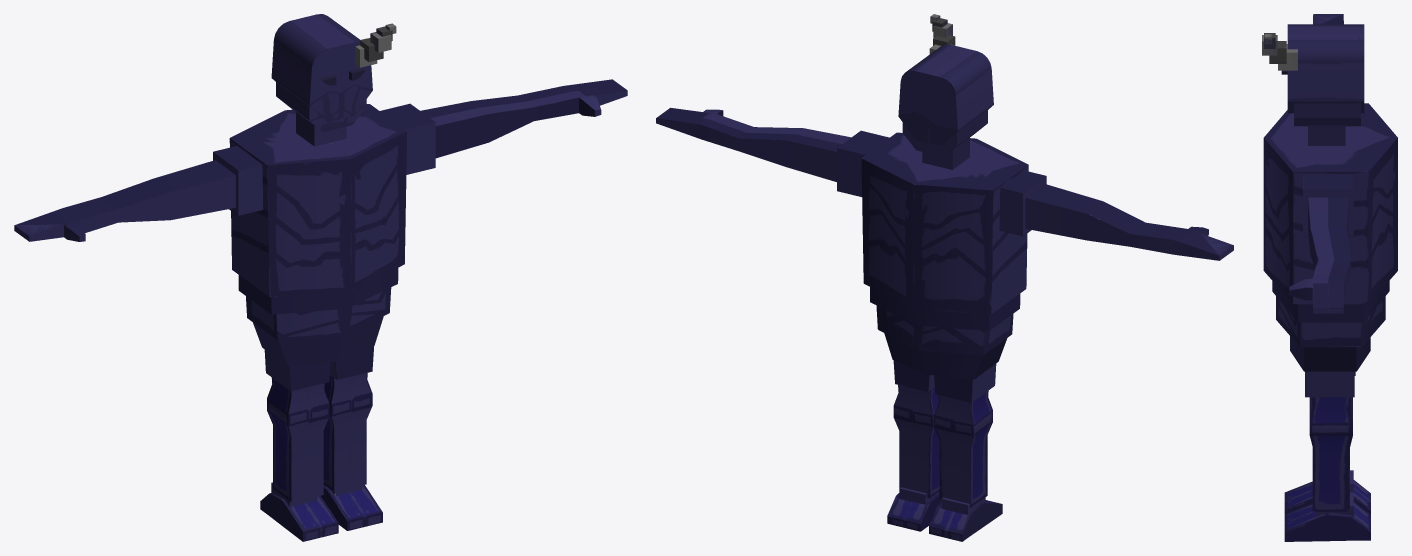
File: low poly knight.fbx
3 renders of one model, left to right at view 1: azimuth 30°, elevation 25°; view 2: azimuth 150°, elevation 25°; view 3: azimuth 270°, elevation 25°, orthographic. The views are drawn at different scales.
Parts seen in each view (by area): view 1: cube_model3; view 2: cube_model3; view 3: cube_model3.
Part boxes in pixels (x1,y1,x2,y2): cube_model3: [14, 14, 627, 541]; cube_model3: [656, 14, 1233, 541]; cube_model3: [1262, 14, 1397, 541].
Size of the model in its own units: 18.56 by 14.91 by 3.62.
2 materials, 1 textured.
